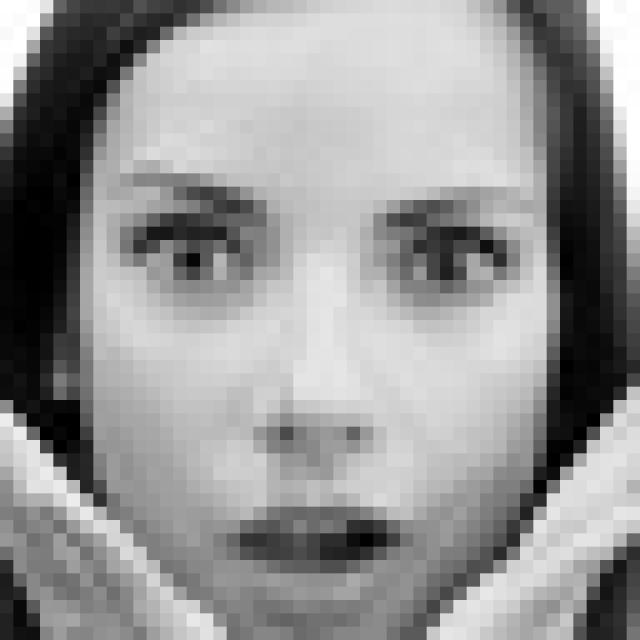surprise: (100, 143, 541, 640)
